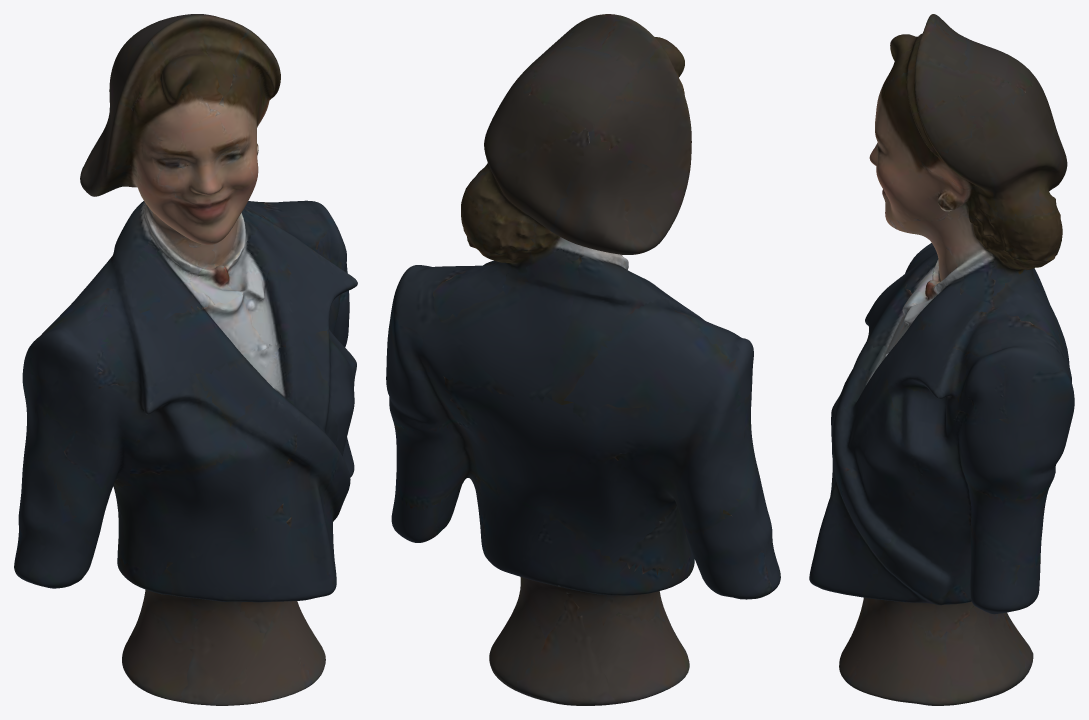
File: shirley_under_2mb.glb
3 renders of one model, left to right at view 1: azimuth 30°, elevation 25°; view 2: azimuth 150°, elevation 25°; view 3: azimuth 270°, elevation 25°, orthographic. The views are drawn at different scales.
Visible parts, largest first — view 1: Mesh_0; view 2: Mesh_0; view 3: Mesh_0.
Part boxes in pixels (left/top/right/bottom): Mesh_0: left=14, top=14, right=357, bottom=705; Mesh_0: left=386, top=14, right=780, bottom=705; Mesh_0: left=809, top=14, right=1074, bottom=705.
Bounding box in the file's own units: 1.08 × 1.9 × 0.7238.
1 material, 1 textured.
